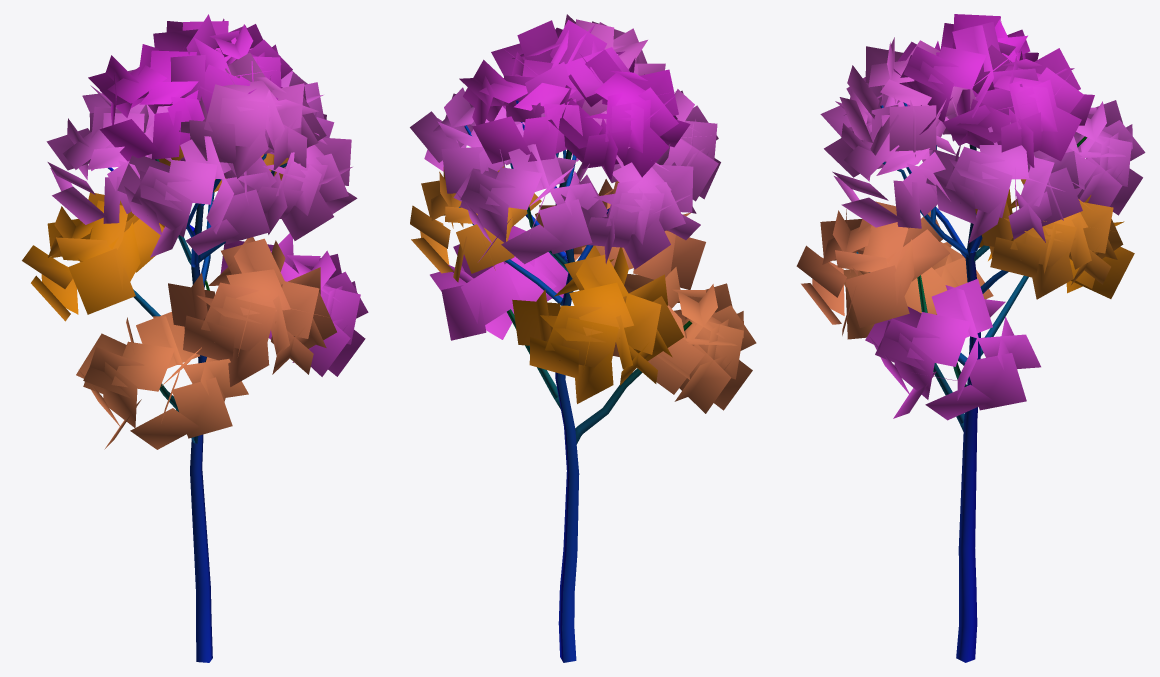
Rendered from treeOneLod1.glb.
3 renders of one model, left to right at view 1: azimuth 30°, elevation 25°; view 2: azimuth 150°, elevation 25°; view 3: azimuth 270°, elevation 25°, orthographic.
Visible parts, largest first — view 1: Mesh_0.013; view 2: Mesh_0.013; view 3: Mesh_0.013.
Boxes of the visible parts, x1,y1,x2,y2 form: Mesh_0.013: (22, 14, 368, 662); Mesh_0.013: (410, 14, 756, 662); Mesh_0.013: (796, 14, 1145, 662).
Size of the model in its own units: 13.57 by 27.69 by 14.11.
